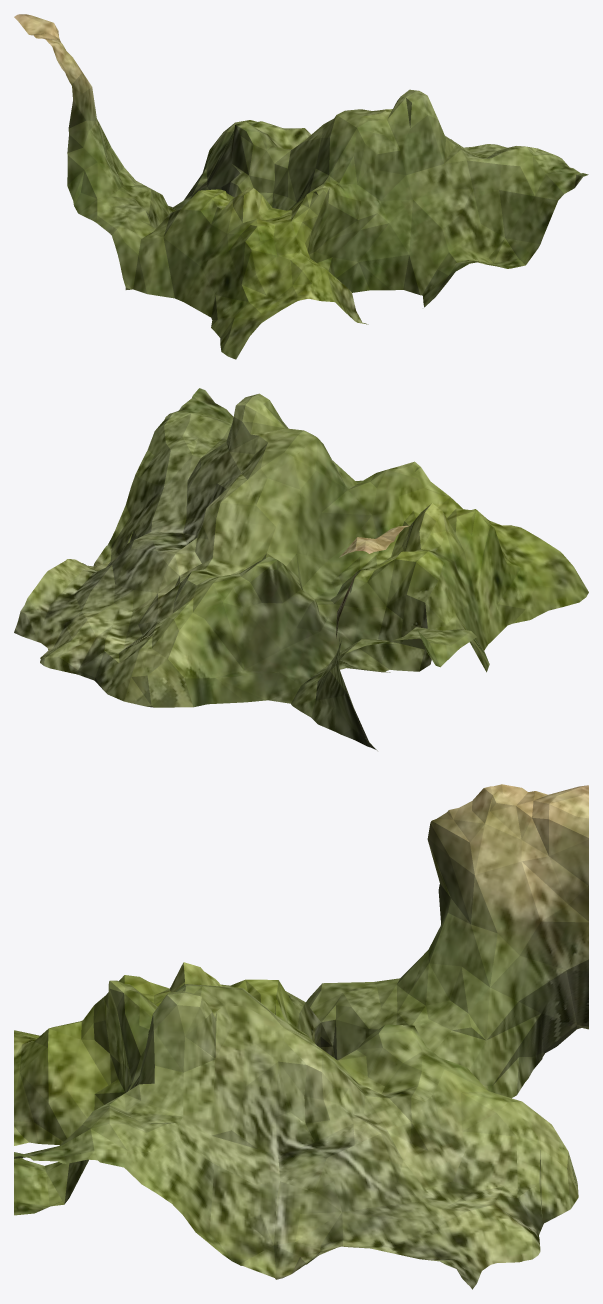
3 renders of one model, top to bottom at view 1: azimuth 30°, elevation 25°; view 2: azimuth 150°, elevation 25°; view 3: azimuth 270°, elevation 25°, orthographic. The views are drawn at different scales.
Bounding box in the file's own units: 2.95 × 1.5 × 2.95.
3 materials, 3 textured.
